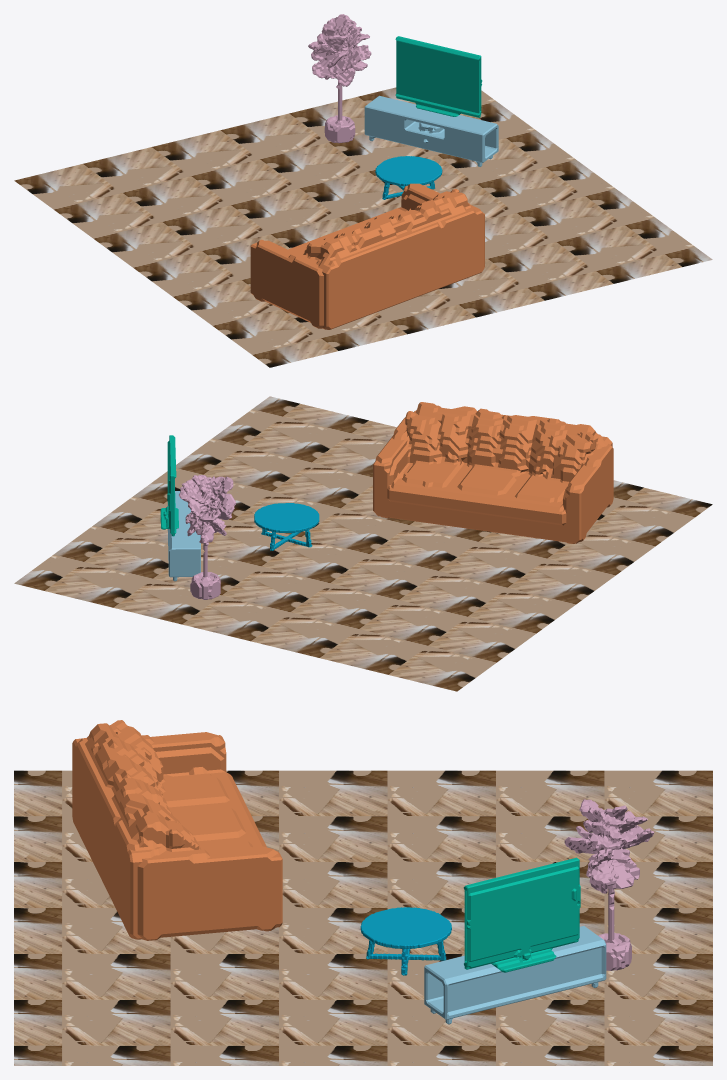
File: room.glb
The picture shows the model from 3 angles, top to bottom: view 1: azimuth 30°, elevation 25°; view 2: azimuth 150°, elevation 25°; view 3: azimuth 270°, elevation 25°; orthographic projection. The views are drawn at different scales.
Visible parts, largest first — view 1: floor, world; view 2: floor, world; view 3: floor, world.
Part boxes in pixels (x1,y1,x2,y2): floor: (14, 87, 712, 367); world: (250, 14, 498, 329); floor: (14, 396, 712, 691); world: (160, 402, 613, 599); floor: (14, 770, 712, 1065); world: (72, 720, 654, 1024).
Bounding box in the file's own units: 6.44 × 1.88 × 6.44.
1 material, 1 textured.
